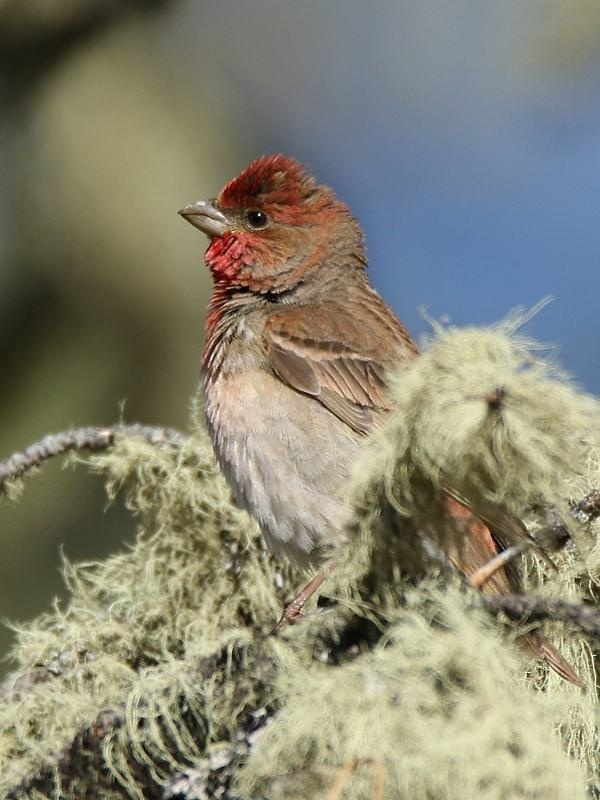rosefinch: (186, 136, 478, 611)
